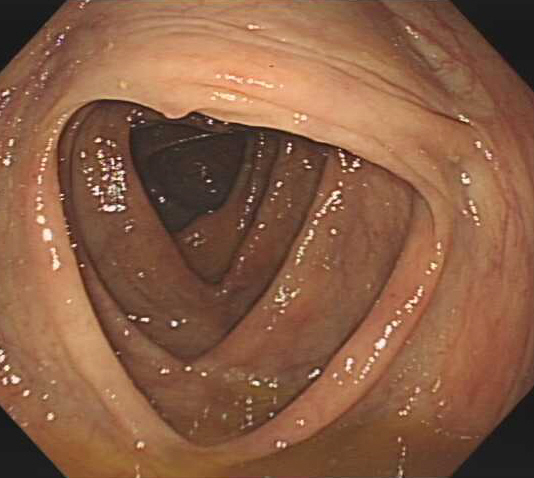adenoma: (150, 100, 203, 121)
